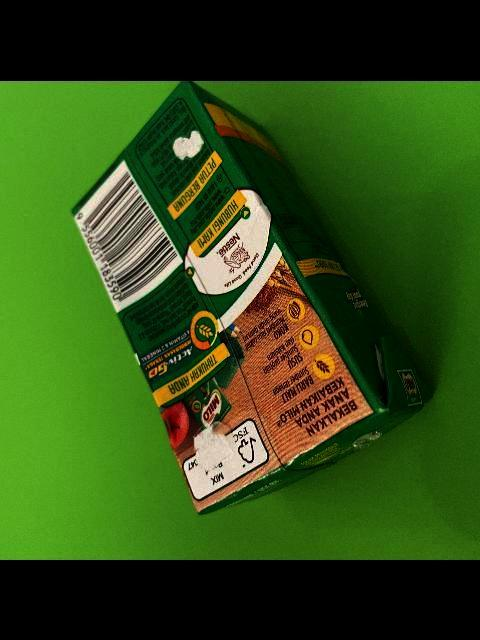drinkpack: (69, 80, 436, 518)
